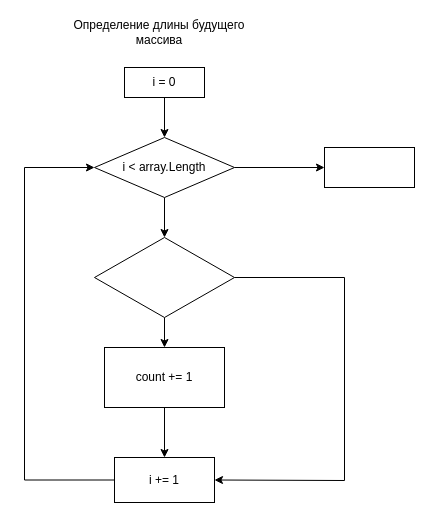
This 432x520 diagram has some shape labels left out. The shapes that lost their labels are listed below. From the top down, each one's centre as x and y in pixels, then its label:
At pixel 369 167: "count".
At pixel 164 277: "array[i].Length < 3".
